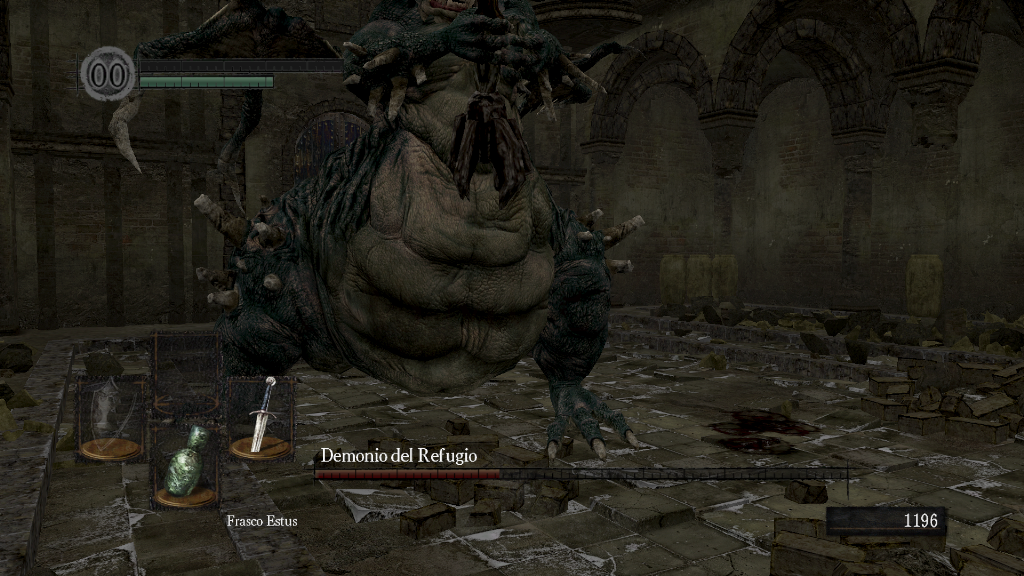asylumDemon: (115, 1, 651, 455)
bossHP: (314, 469, 847, 479)
health: (138, 58, 343, 71)
humanity: (80, 45, 136, 102)
souls: (825, 506, 945, 536)
stamina: (138, 74, 274, 88)
